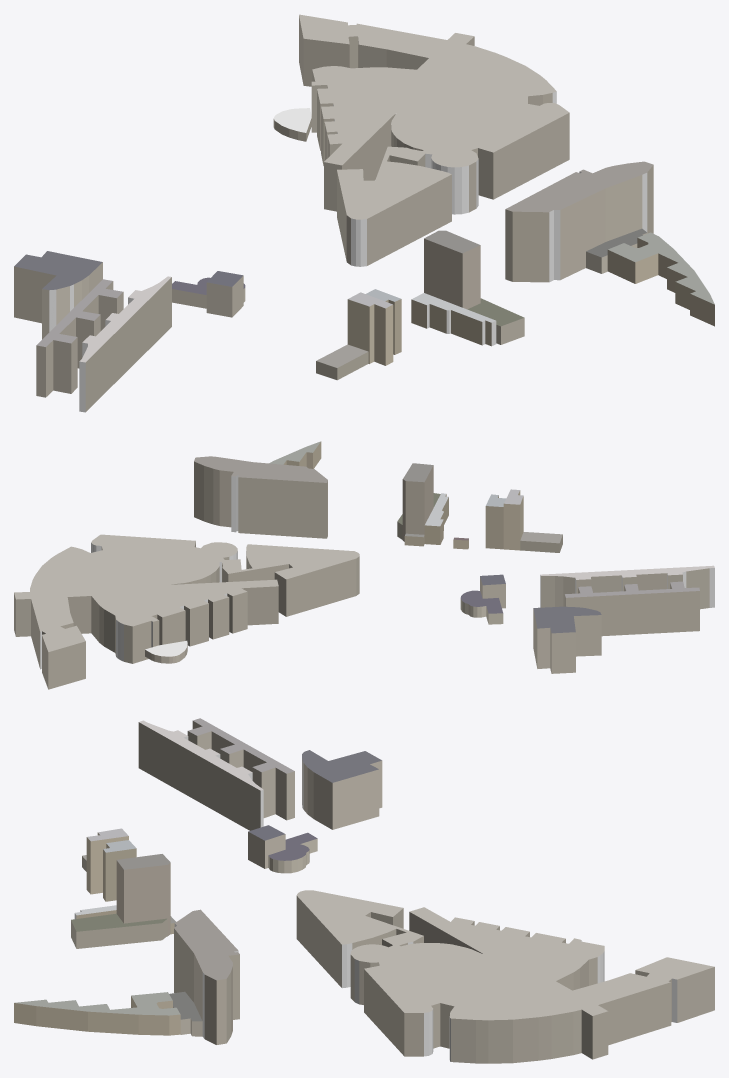
3 renders of one model, top to bottom at view 1: azimuth 30°, elevation 25°; view 2: azimuth 150°, elevation 25°; view 3: azimuth 270°, elevation 25°, orthographic. The views are drawn at different scales.
Visible parts, largest first — view 1: tuile; view 2: tuile; view 3: tuile.
Part boxes in pixels (x1=…): tuile: x1=14, y1=14, x2=714, y2=412; tuile: x1=14, y1=441, x2=714, y2=689; tuile: x1=14, y1=718, x2=714, y2=1063.
Size of the model in its own units: 301 by 37.43 by 299.
